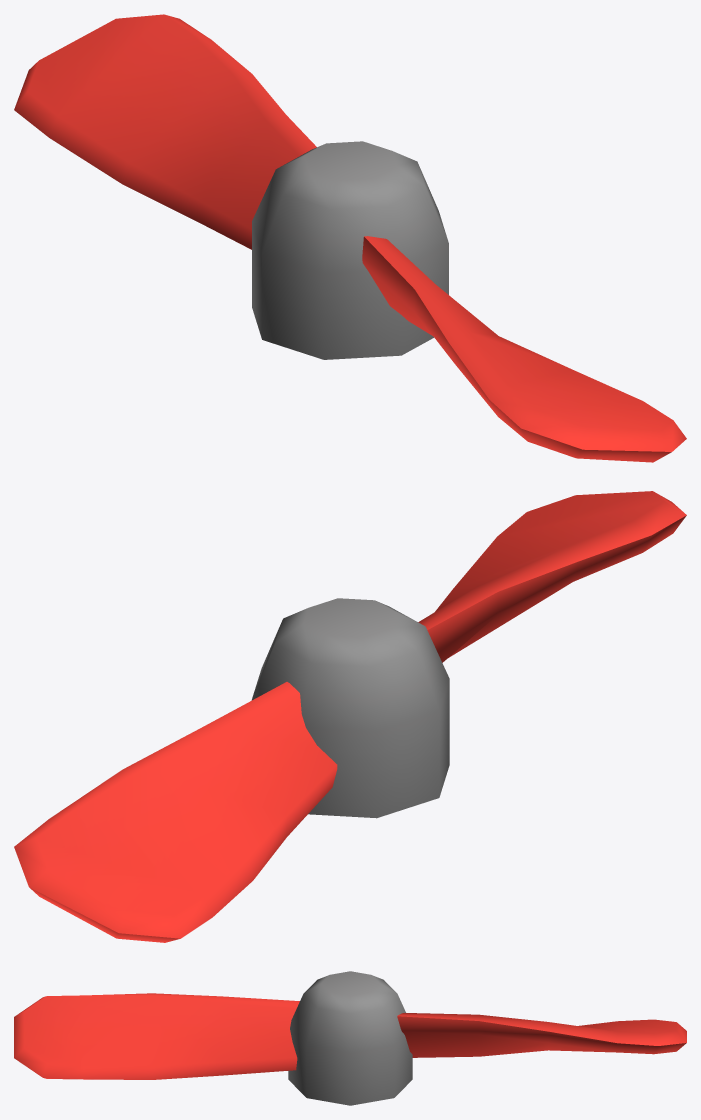
The model's file is Drone_013_propeller_001.fbx.
3 views of the same model, one above another, from view 1: azimuth 30°, elevation 25°; view 2: azimuth 150°, elevation 25°; view 3: azimuth 270°, elevation 25° (orthographic). The views are drawn at different scales.
Parts seen in each view (by area): view 1: Drone_013_propeller_001; view 2: Drone_013_propeller_001; view 3: Drone_013_propeller_001.
Part boxes in pixels (x1,y1,x2,y2): Drone_013_propeller_001: (14,14,686,462); Drone_013_propeller_001: (14,491,686,942); Drone_013_propeller_001: (14,971,686,1105).
Size of the model in its own units: 5.53 by 29.9 by 4.7.
